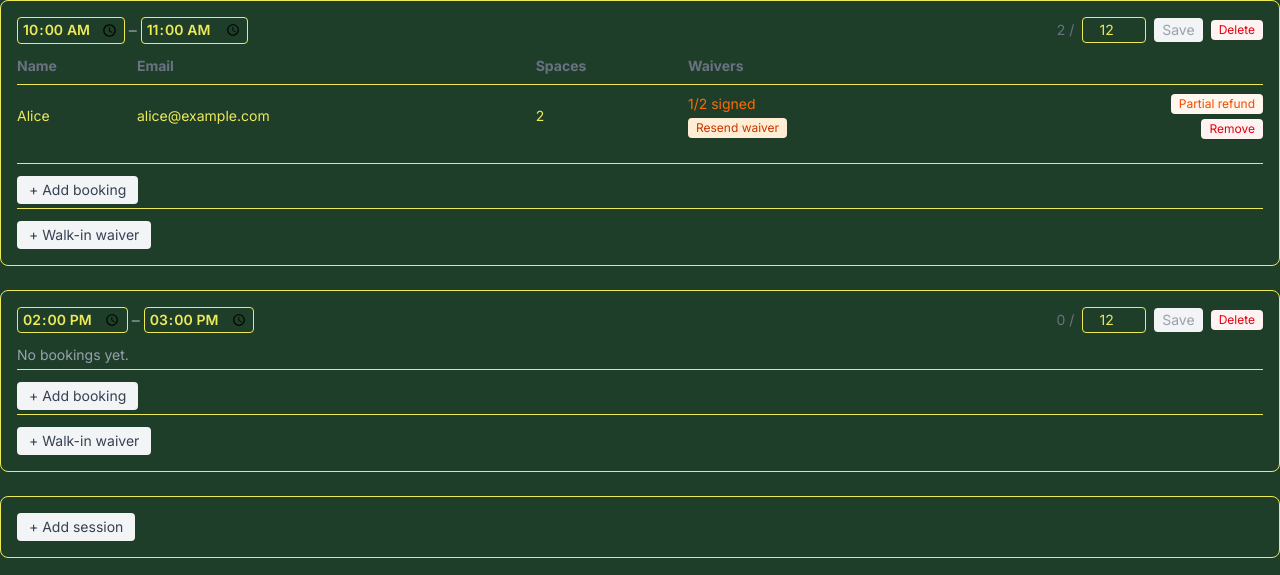
Scenario: SlotCapacityEditor › blocks deleting a session that has bookings, without calling the API
Step 1. Click the 1st button "Delete" → (1237, 30), box left=1211, top=20, right=1263, bottom=40
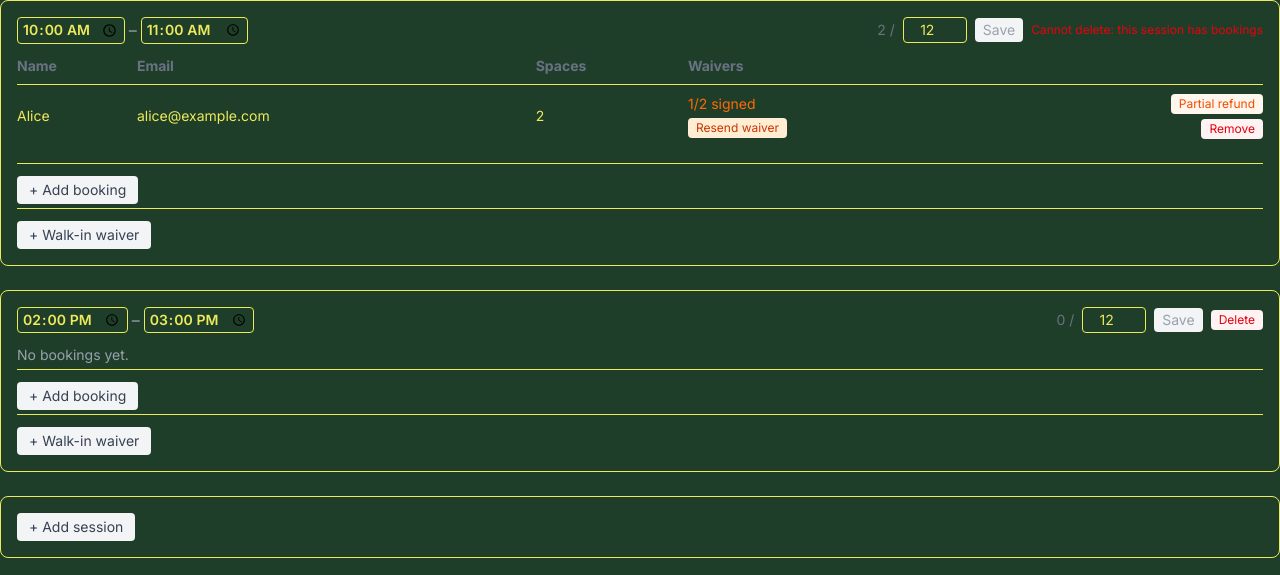
Now the text "Cannot delete: this session has bookings" is shown, box left=1031, top=22, right=1263, bottom=38
